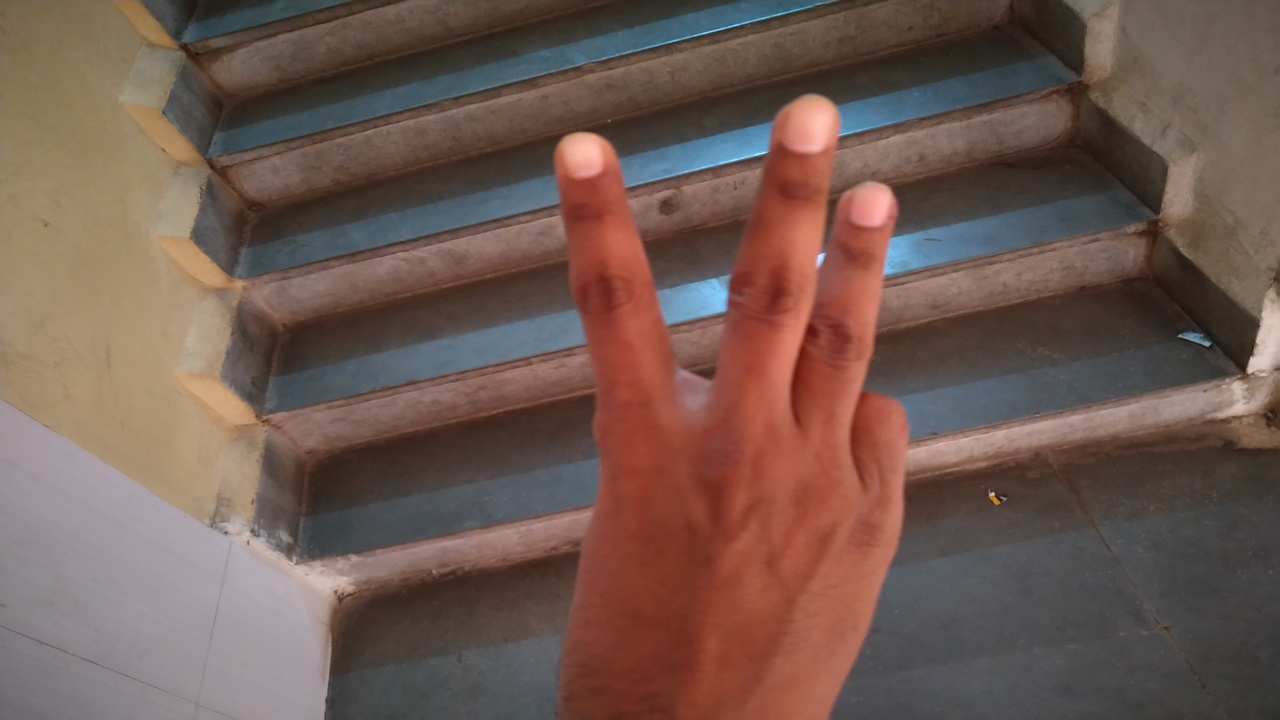fingertip: (766, 88, 846, 162), (548, 126, 620, 196), (836, 172, 906, 242)
